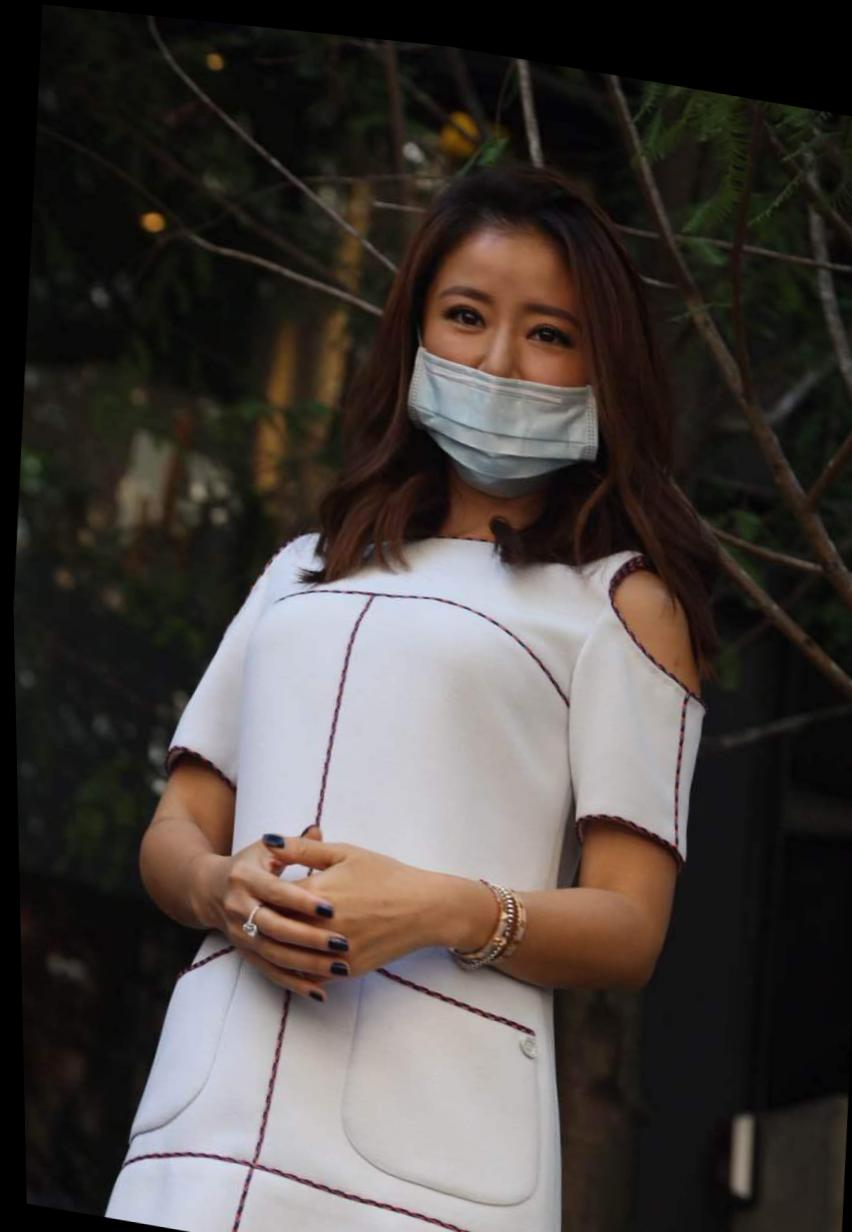WRONG: (403, 232, 606, 492)
